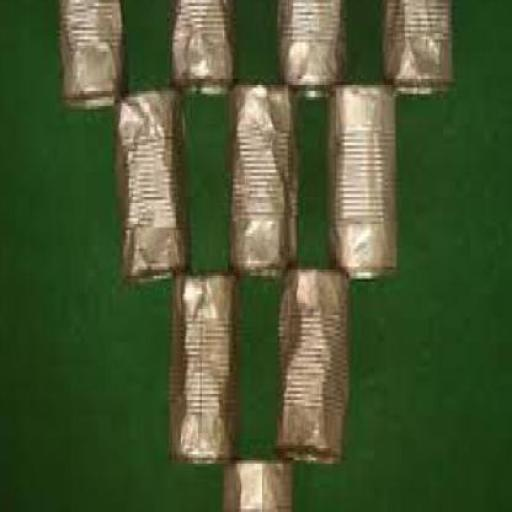metal: (118, 88, 192, 291), (228, 82, 302, 279), (327, 85, 400, 282), (281, 273, 353, 467), (175, 276, 241, 466), (379, 3, 455, 97), (61, 4, 127, 112), (167, 3, 238, 100), (280, 3, 348, 100), (224, 463, 297, 511)
